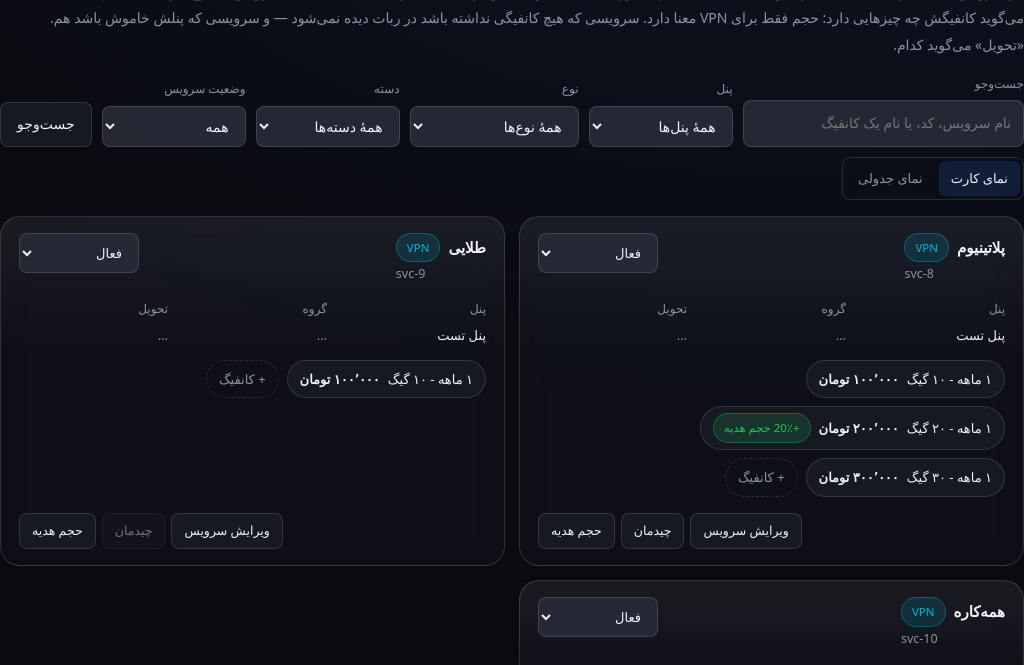
Test: the catalogue screen › draws the flat sheet on «نمای جدولی» — one row per config, same prices
Expected: the text "svc-8" is shown, [904, 266, 934, 282]
Click the button "نمای جدولی" at (890, 178), box [846, 161, 935, 196]
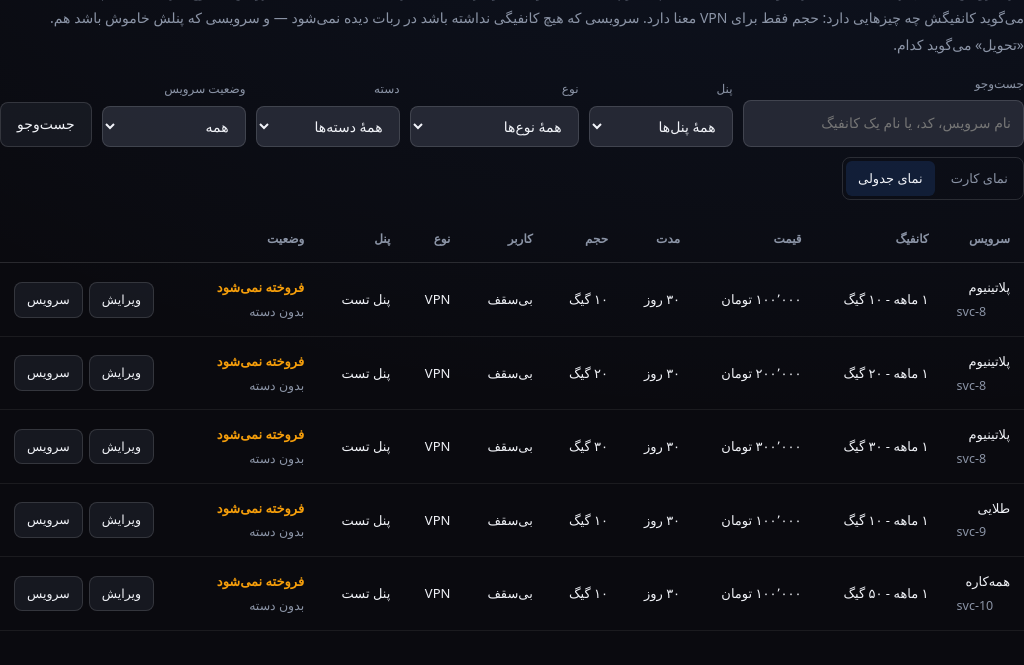
Expected: the text "۲۰۰٬۰۰۰ تومان" is shown, [694, 336, 816, 410]
Expected: the text "svc-8" is shown 5 times, [956, 303, 986, 320]; [956, 376, 986, 394]; [956, 450, 986, 467]; [956, 523, 986, 540]; [956, 597, 993, 614]
Click the button "ویرایش" in the row of "۱ ماهه - ۲۰ گیگ" at (121, 373), box [89, 355, 154, 391]
(page scrolled)
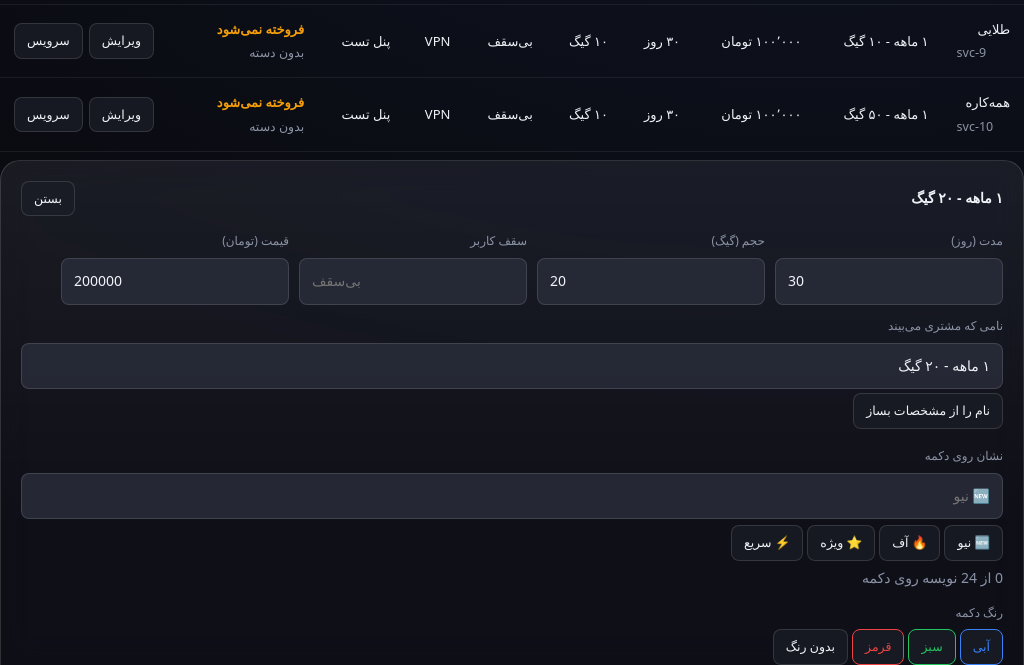
Expected: the number field labelled "قیمت (تومان)" holds "200000", [61, 258, 289, 305]
